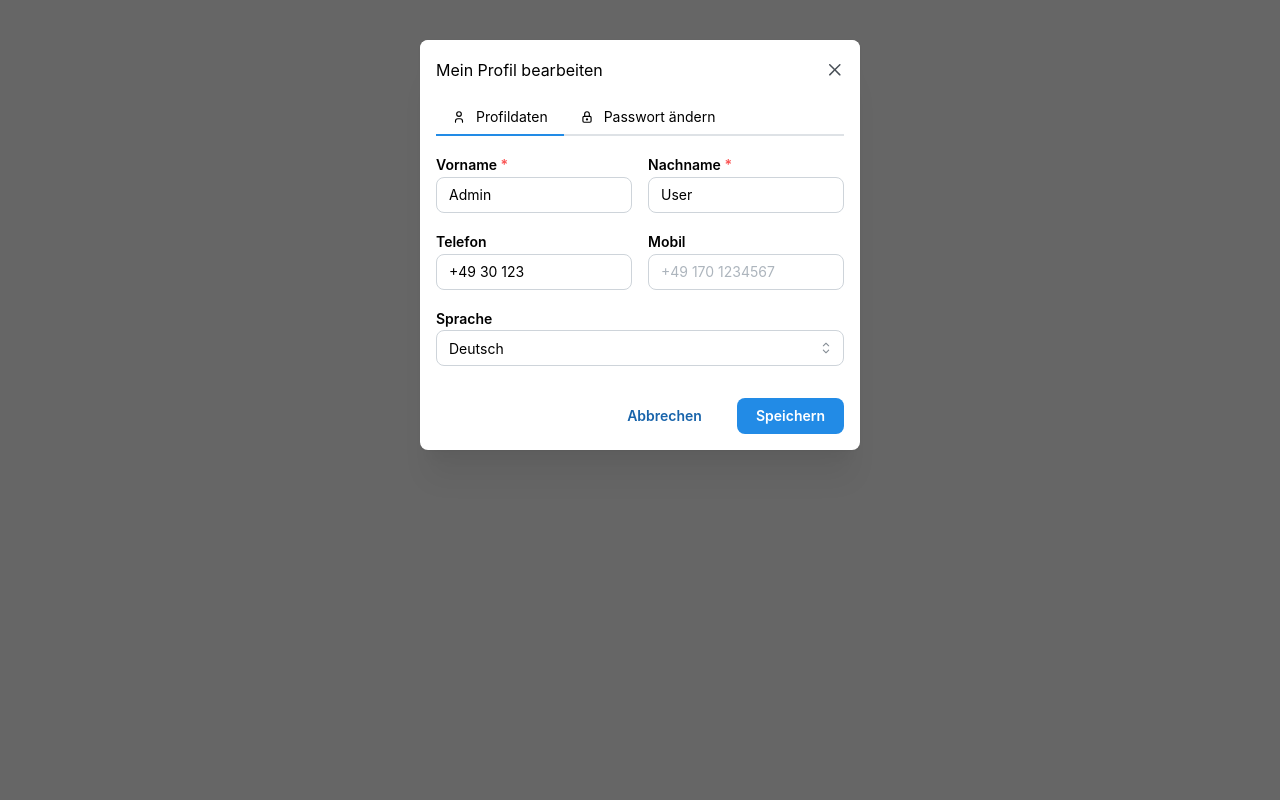
Test: EditProfileModal › speichert Profiländerungen per PATCH und meldet Erfolg
The width and height of the screenshot is (1280, 800).
Replace the text in the field labelled "Vorname *" with "Neuer". click: (534, 195)
box: [436,177,632,213]
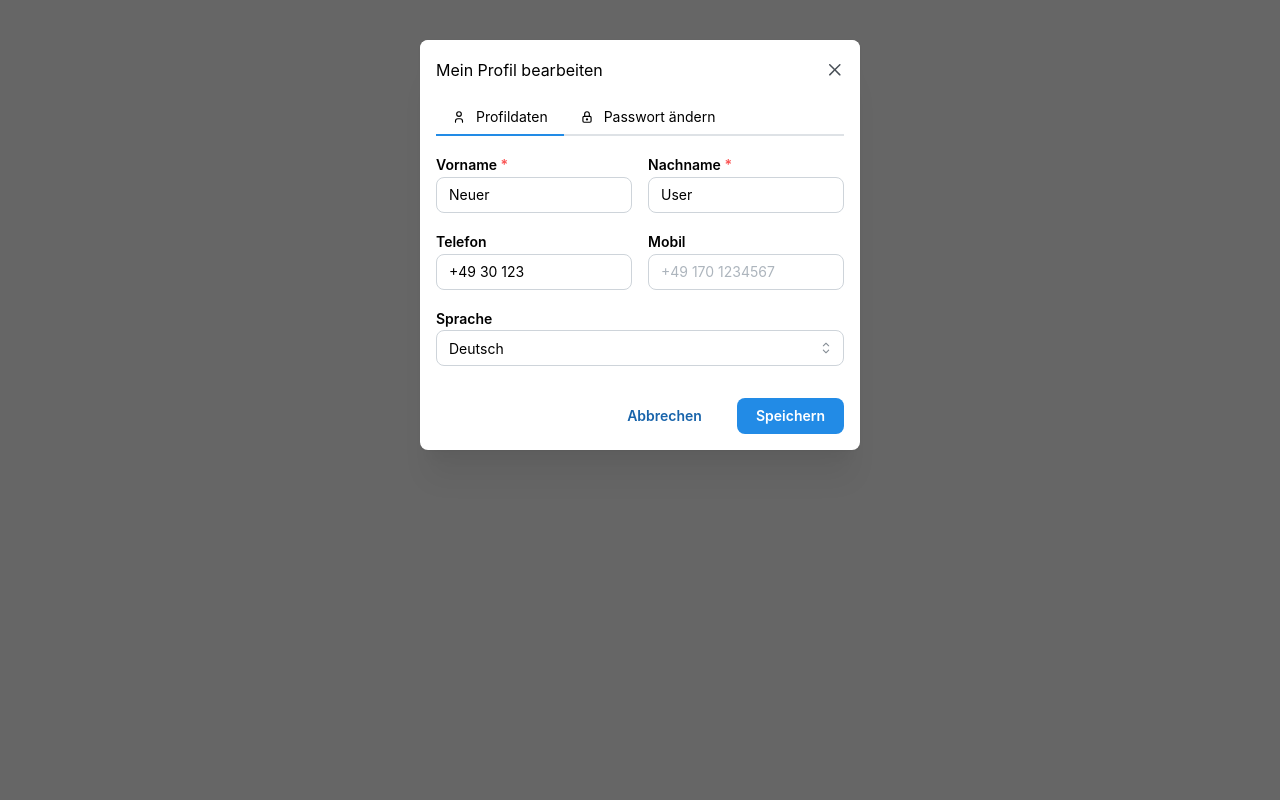
Click the button "Speichern". click: click(790, 416)
box: [737,398,844,434]
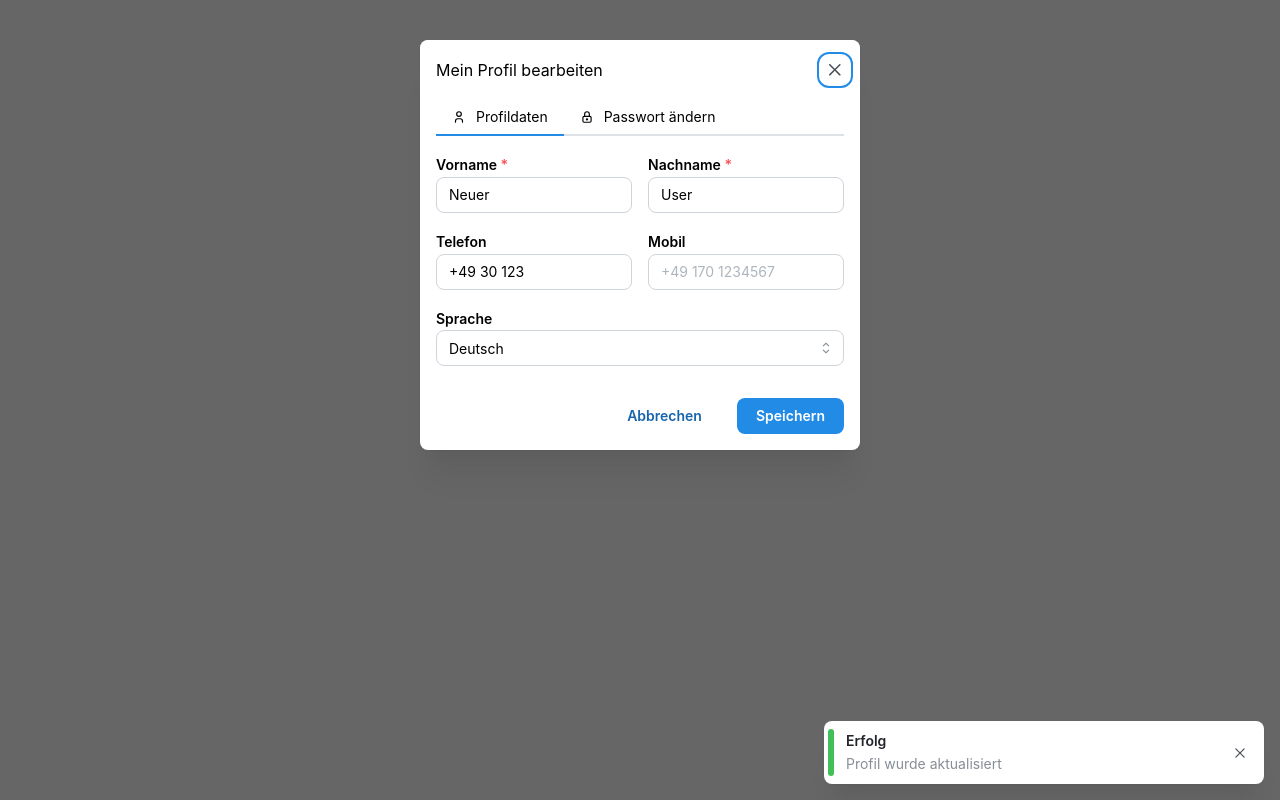
Check: the text "Profil wurde aktualisiert" is shown, box [846,755,1002,772]
